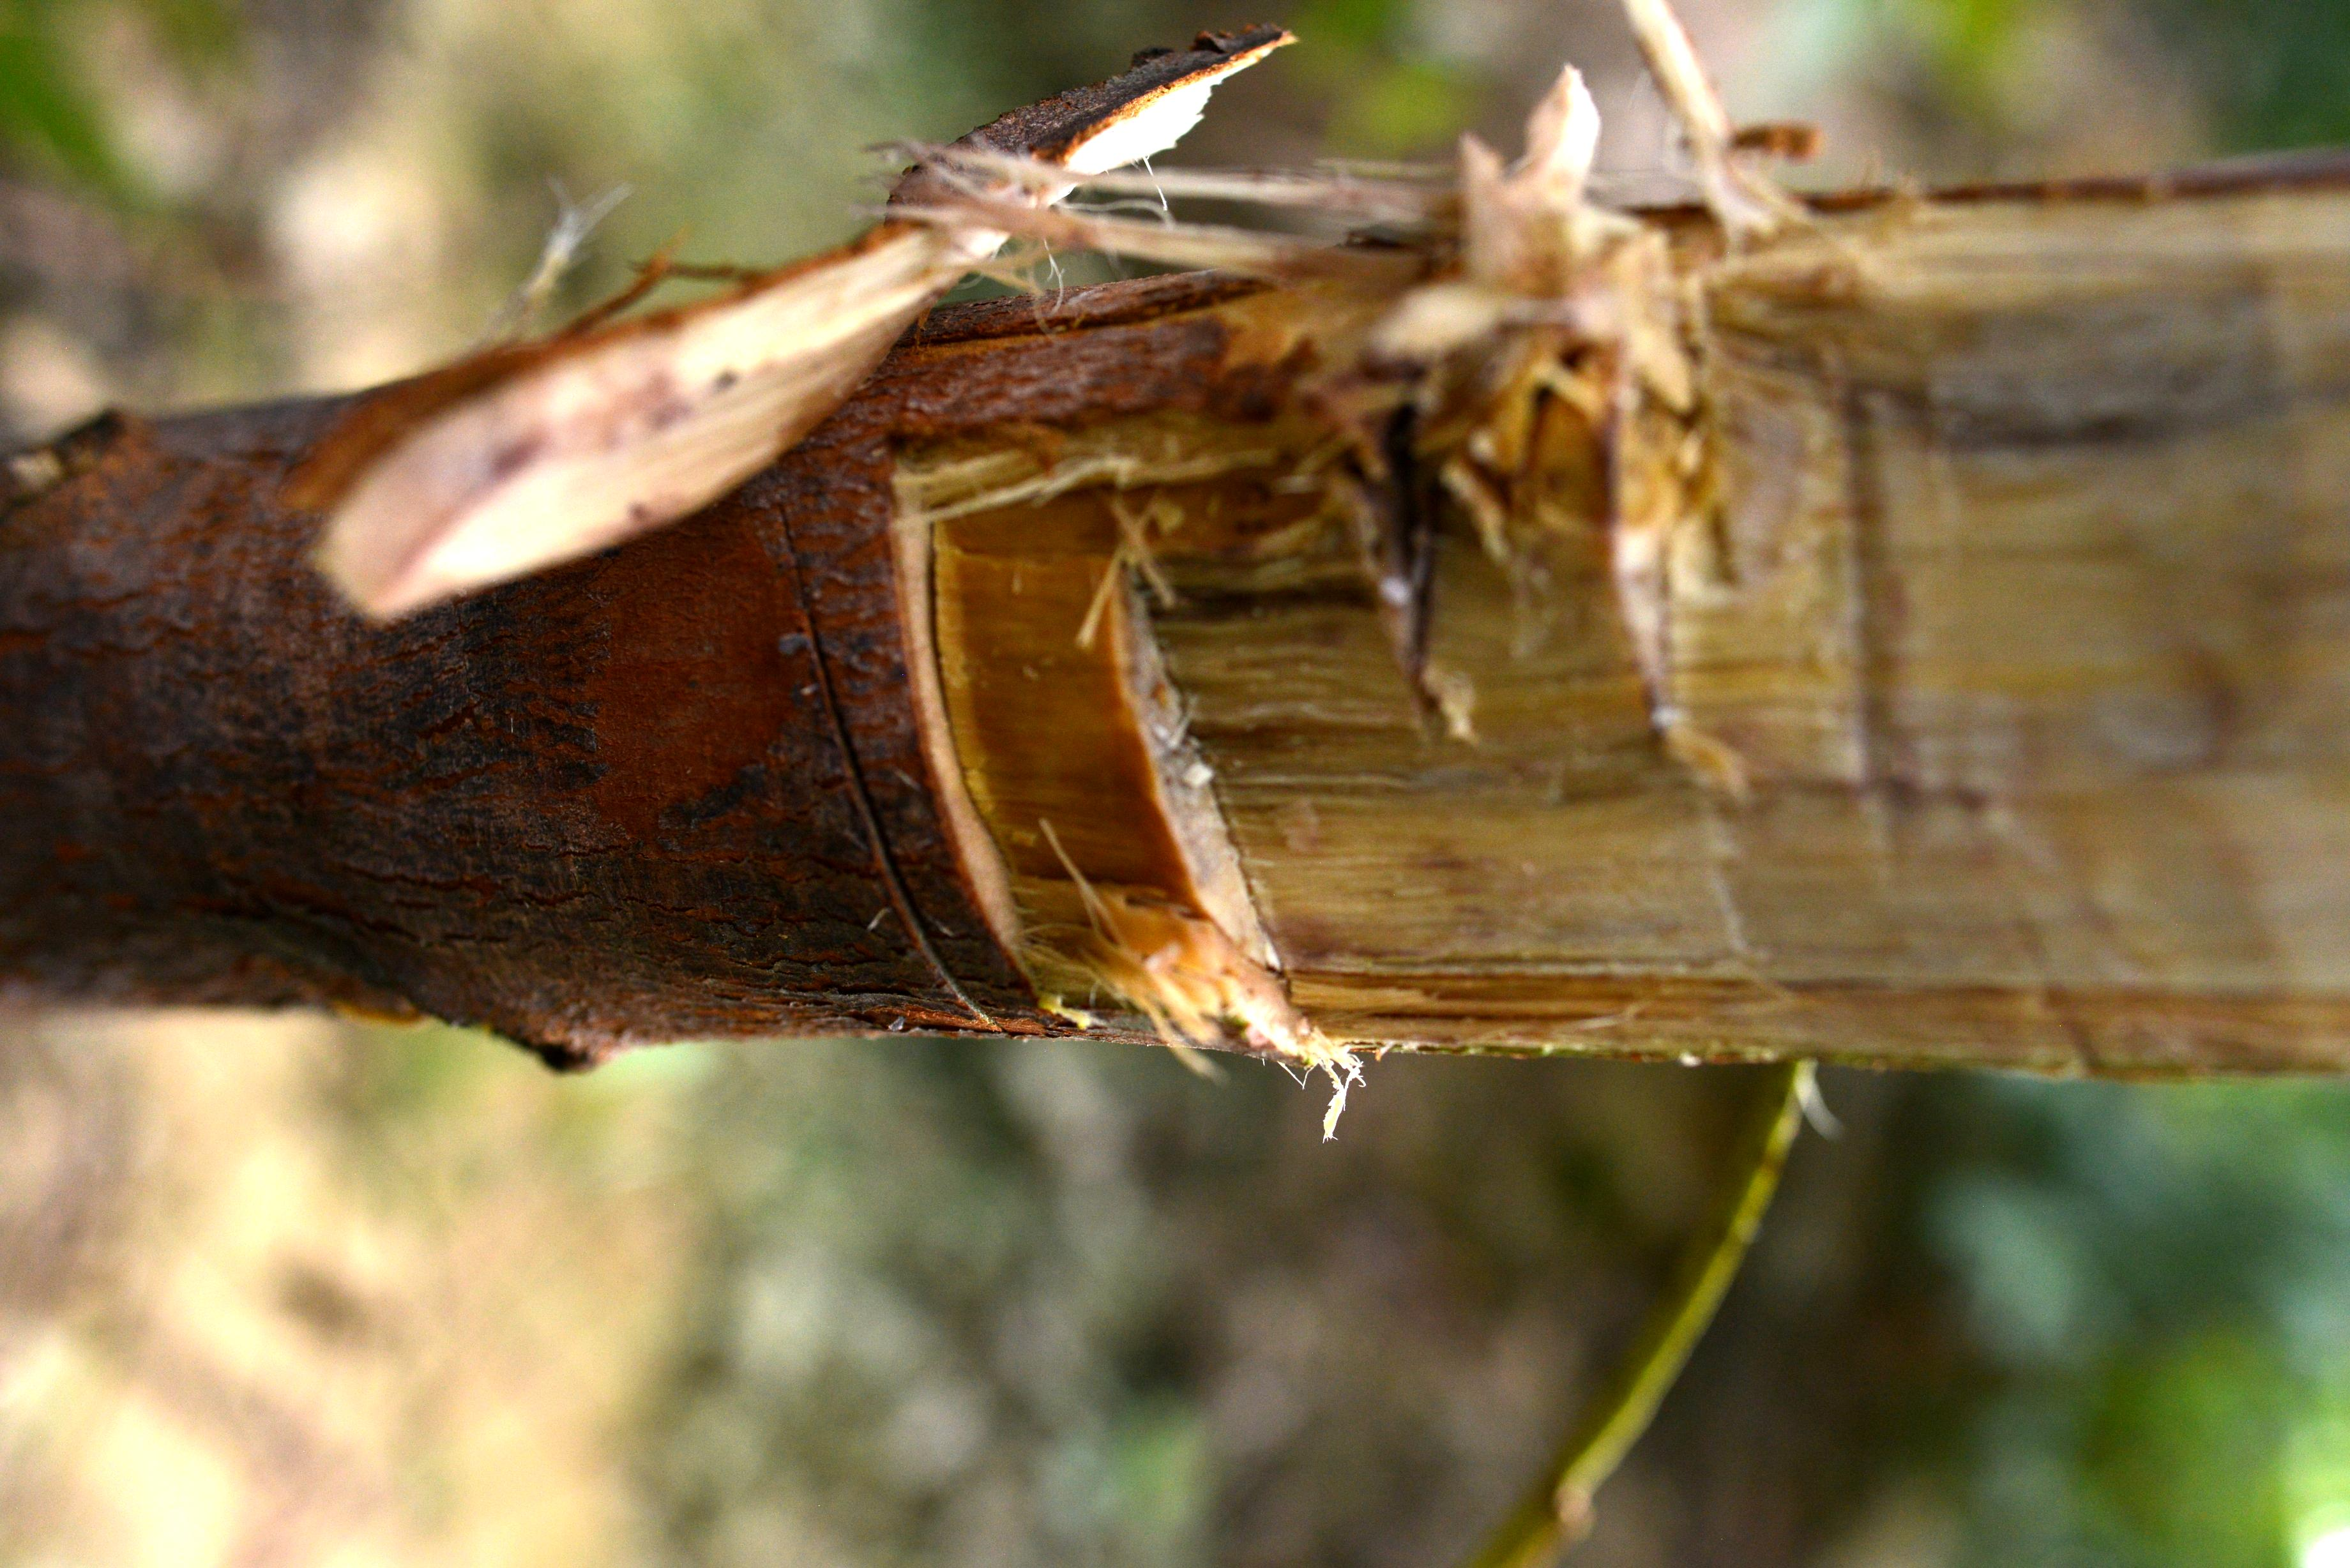Ralstonia: (924, 262, 2350, 1029)
